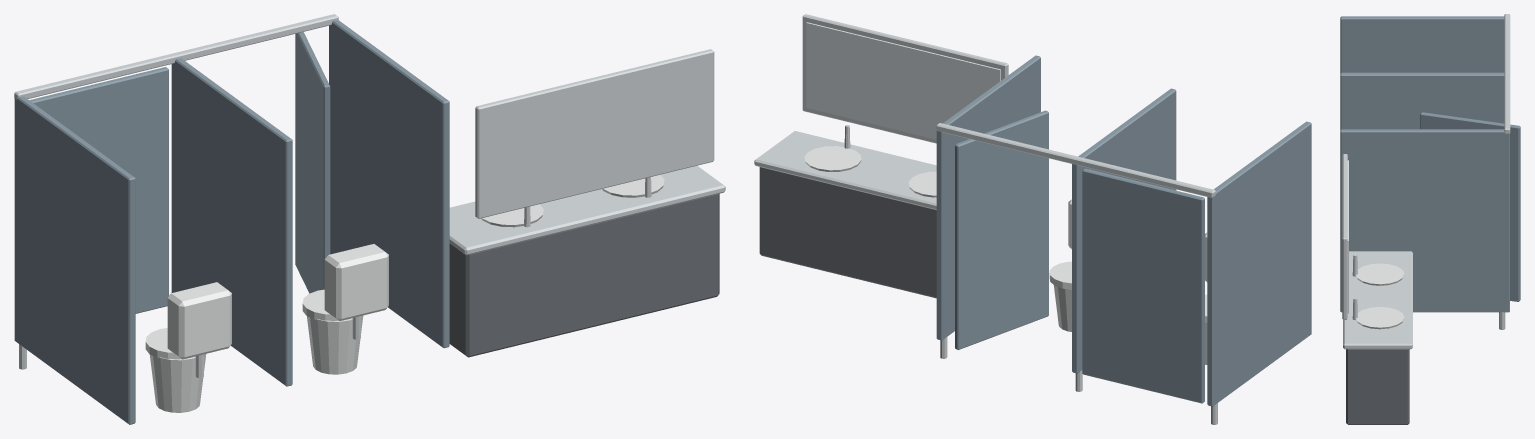
Rendered from ship_restroom_unit.glb.
The picture shows the model from 3 angles, left to right: view 1: azimuth 30°, elevation 25°; view 2: azimuth 150°, elevation 25°; view 3: azimuth 270°, elevation 25°; orthographic projection. The views are drawn at different scales.
Visible parts, largest first — view 1: DivWall_-1.3, DivWall_0.0, DivWall_1.3, VanityCab, MirrorFrame, StallDoor1, StallDoor2, VanityTop, Cistern_-0.65, Cistern_0.65, HeadRail, BowlPed_0.65 (+5 smaller); view 2: StallDoor1, DivWall_-1.3, StallDoor2, VanityCab, MirrorGlass, DivWall_1.3, DivWall_0.0, VanityTop, MirrorFrame, HeadRail, Basin_3.05, BowlPed_0.65 (+2 smaller); view 3: DivWall_1.3, DivWall_-1.3, DivWall_0.0, VanityCab, VanityTop, StallDoor2, MirrorFrame, Basin_2.05, Basin_3.05, HeadRail, MirrorGlass.
Part boxes in pixels (x1,y1,x2,y2): DivWall_-1.3: [14, 96, 135, 424]; DivWall_0.0: [171, 58, 292, 386]; DivWall_1.3: [329, 20, 449, 348]; VanityCab: [449, 193, 719, 357]; MirrorFrame: [475, 49, 714, 218]; StallDoor1: [29, 67, 168, 313]; StallDoor2: [295, 32, 330, 293]; VanityTop: [449, 166, 725, 255]; Cistern_-0.65: [167, 282, 231, 359]; Cistern_0.65: [324, 244, 388, 321]; HeadRail: [14, 14, 338, 99]; BowlPed_0.65: [307, 315, 363, 374]; StallDoor1: [1082, 168, 1204, 403]; DivWall_-1.3: [1207, 121, 1311, 406]; StallDoor2: [955, 110, 1048, 349]; VanityCab: [759, 167, 936, 298]; MirrorGlass: [806, 22, 1000, 139]; DivWall_1.3: [936, 55, 1040, 340]; DivWall_0.0: [1072, 88, 1176, 373]; VanityTop: [754, 131, 936, 209]; MirrorFrame: [802, 14, 1008, 143]; HeadRail: [936, 123, 1215, 197]; Basin_3.05: [804, 146, 861, 171]; BowlPed_0.65: [1053, 285, 1071, 331]; DivWall_1.3: [1340, 129, 1509, 312]; DivWall_-1.3: [1340, 16, 1504, 73]; DivWall_0.0: [1340, 72, 1504, 129]; VanityCab: [1346, 349, 1409, 424]; VanityTop: [1343, 251, 1412, 349]; StallDoor2: [1420, 112, 1520, 301]; MirrorFrame: [1342, 154, 1347, 319]; Basin_2.05: [1356, 263, 1404, 285]; Basin_3.05: [1356, 307, 1404, 329]; HeadRail: [1504, 14, 1510, 133]; MirrorGlass: [1347, 160, 1348, 313].
Size of the model in its own units: 4.96 by 2.16 by 1.75.
